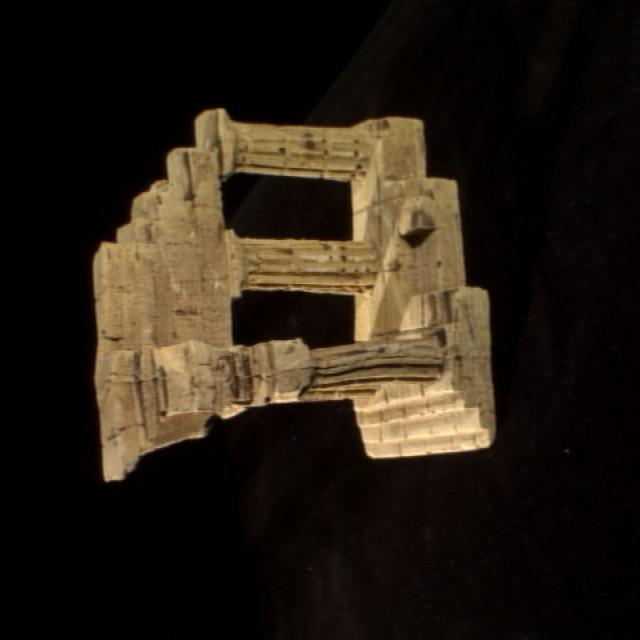Instance-Segmentation: (93, 109, 493, 479)
